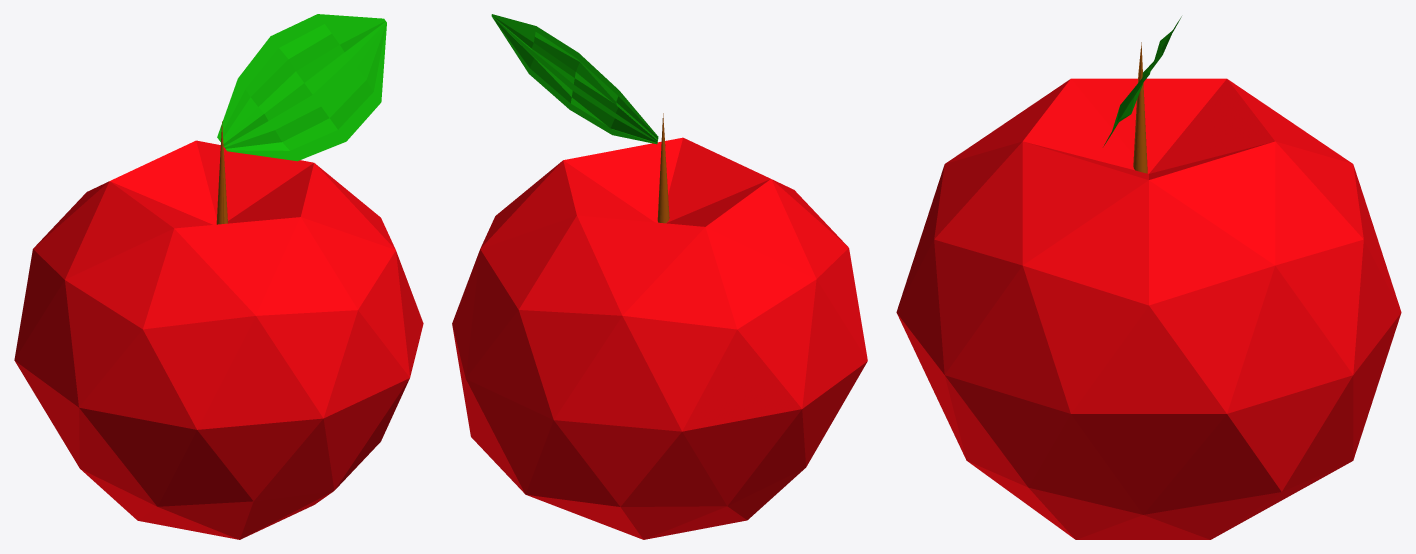
Rendered from Apple.fbx.
3 views of the same model, side by side, from view 1: azimuth 30°, elevation 25°; view 2: azimuth 150°, elevation 25°; view 3: azimuth 270°, elevation 25° (orthographic). The views are drawn at different scales.
Visible parts, largest first — view 1: Apple; view 2: Apple; view 3: Apple.
Part boxes in pixels (left/top/right/bottom): Apple: left=14, top=14, right=423, bottom=539; Apple: left=452, top=14, right=867, bottom=539; Apple: left=896, top=16, right=1401, bottom=539.
Bounding box in the file's own units: 118 × 155 × 124.
